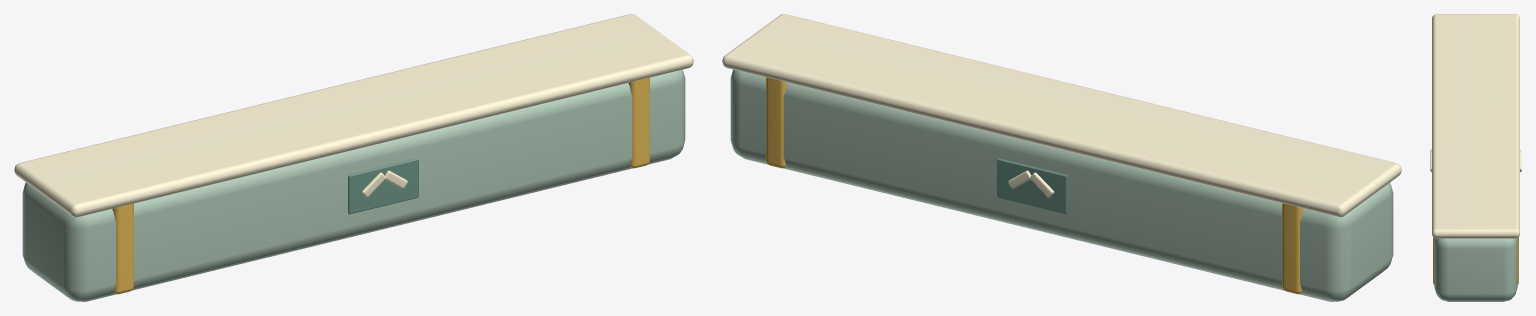
File: hurdle.glb
3 views of the same model, side by side, from view 1: azimuth 30°, elevation 25°; view 2: azimuth 150°, elevation 25°; view 3: azimuth 270°, elevation 25° (orthographic). The views are drawn at different scales.
Parts seen in each view (by area): view 1: RoundedStoneRail, CreamCoping, JumpInset, GoldEndStripe, GoldEndStripe.001; view 2: RoundedStoneRail, CreamCoping, JumpInset.001, GoldEndStripe, GoldEndStripe.001; view 3: CreamCoping, RoundedStoneRail, GoldEndStripe.001.
Part boxes in pixels (left/top/right/bottom): RoundedStoneRail: left=22, top=69, right=685, bottom=301; CreamCoping: left=14, top=14, right=693, bottom=217; JumpInset: left=348, top=158, right=418, bottom=214; GoldEndStripe: left=112, top=203, right=133, bottom=294; GoldEndStripe.001: left=628, top=77, right=649, bottom=168; RoundedStoneRail: left=730, top=69, right=1393, bottom=301; CreamCoping: left=722, top=14, right=1401, bottom=217; JumpInset.001: left=997, top=158, right=1067, bottom=214; GoldEndStripe: left=1282, top=203, right=1303, bottom=294; GoldEndStripe.001: left=766, top=77, right=787, bottom=168; CreamCoping: left=1432, top=14, right=1519, bottom=238; RoundedStoneRail: left=1434, top=238, right=1517, bottom=301; GoldEndStripe.001: left=1433, top=237, right=1518, bottom=284.
Size of the model in its own units: 3.98 by 0.65 by 0.706.
